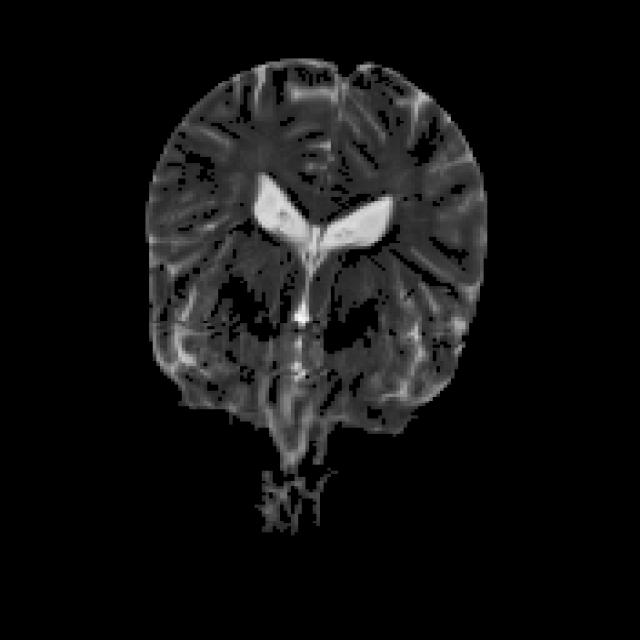parkinson: (142, 52, 487, 532)
